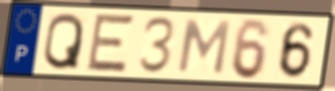3: (138, 15, 178, 75)
6: (229, 17, 273, 82), (278, 20, 318, 80)
E: (84, 12, 137, 74)
M: (175, 18, 233, 77)
Q: (41, 11, 86, 72)
